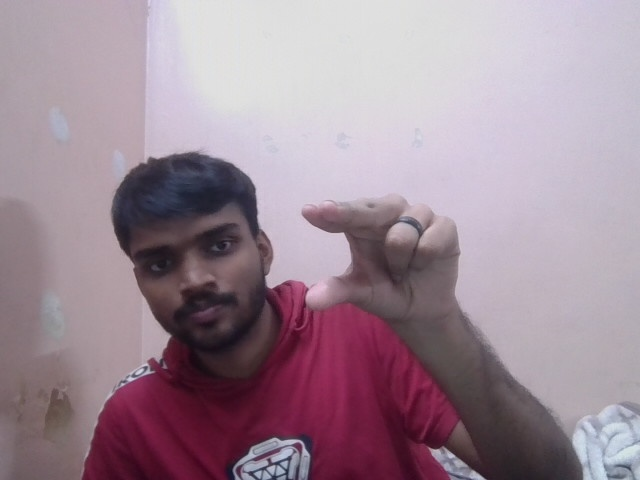No: (301, 180, 473, 315)
